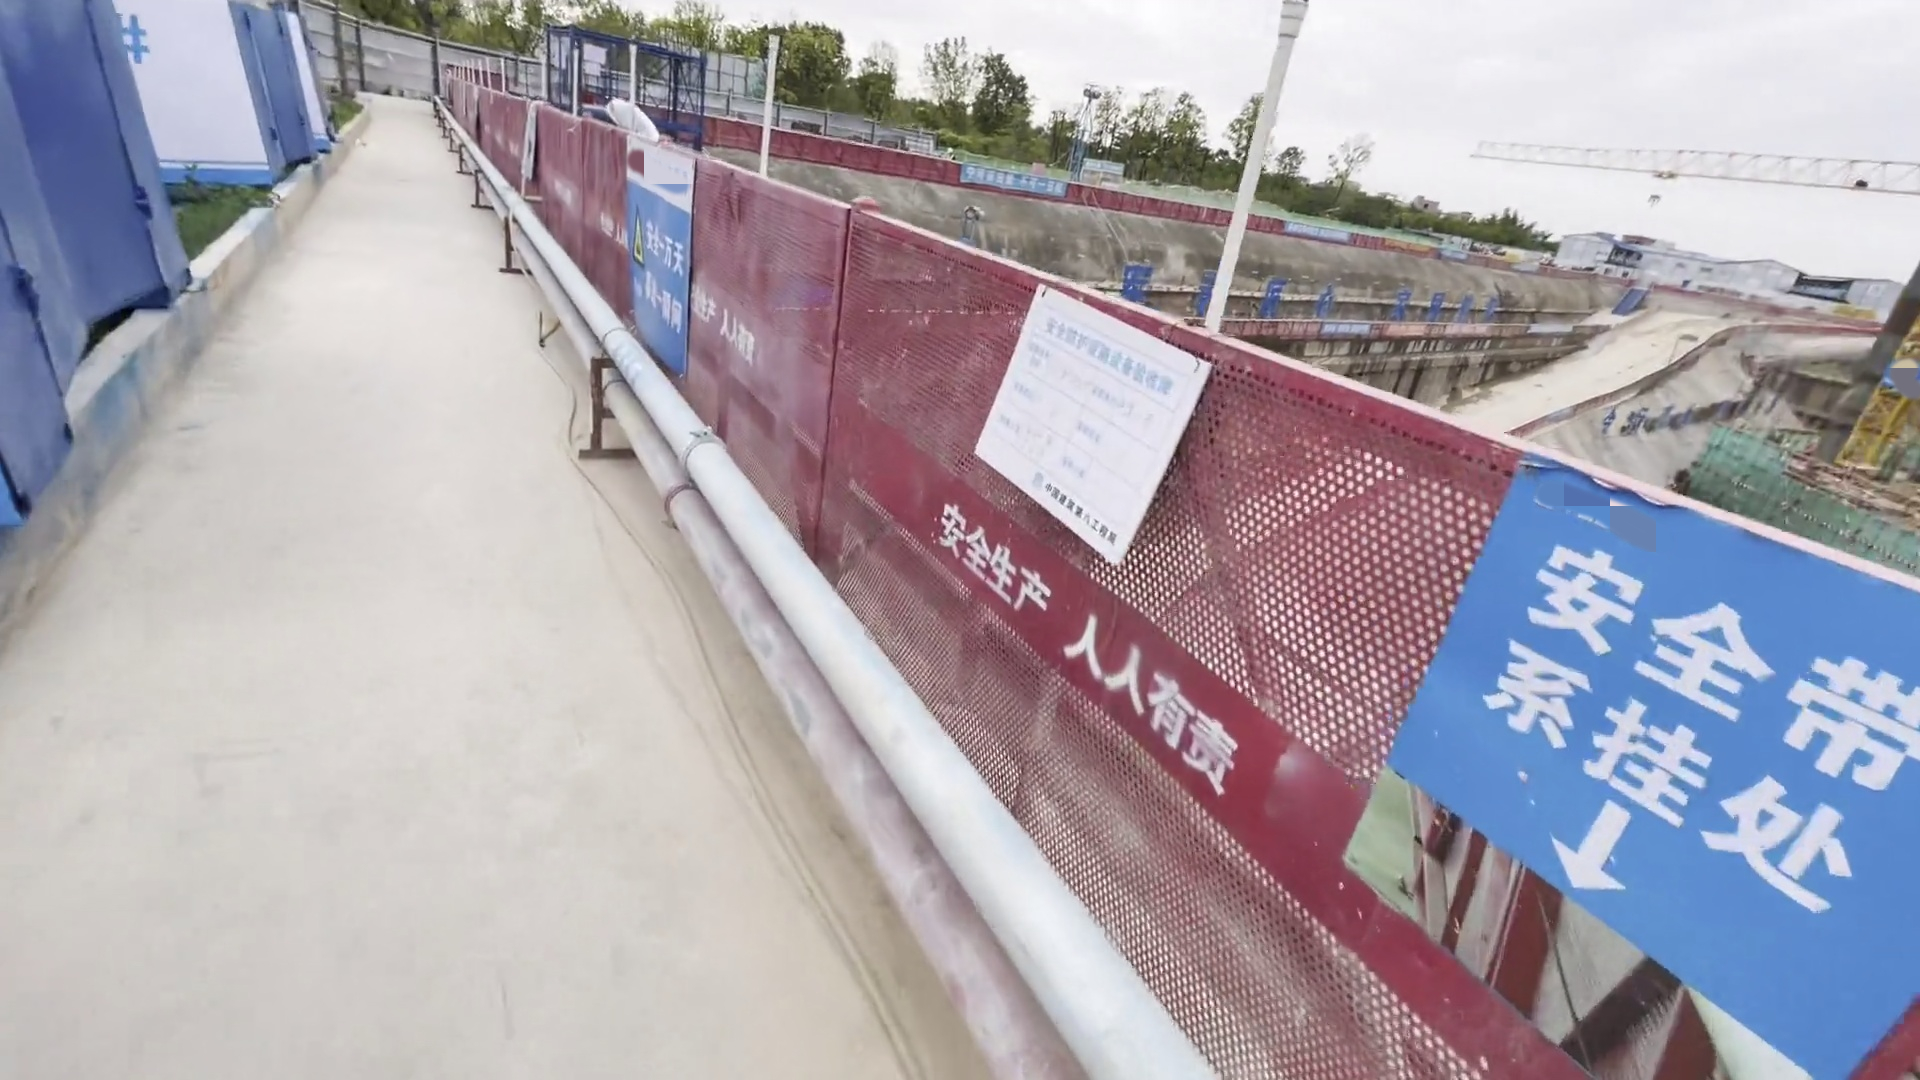fence: (491, 113, 1913, 1080)
slogan: (615, 137, 703, 382)
